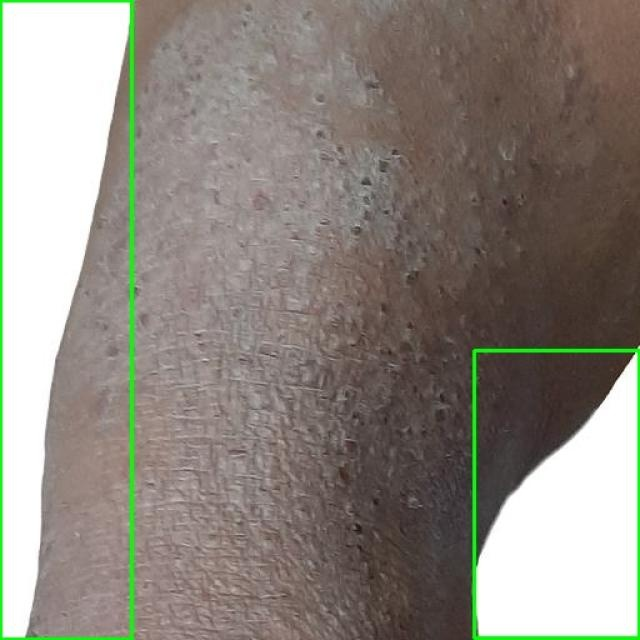Contact Dermatitis: (0, 0, 131, 639), (474, 351, 639, 639)
